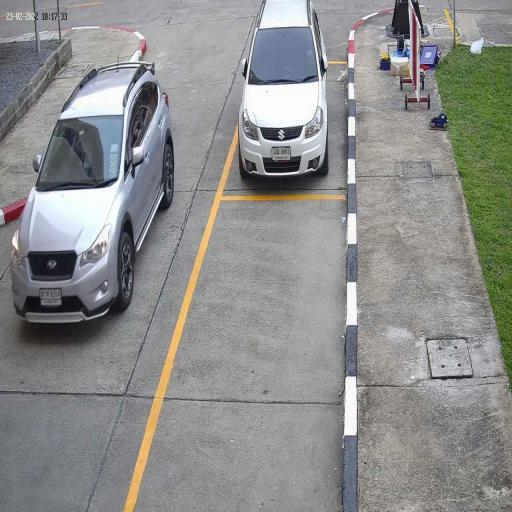car: (8, 60, 177, 329), (236, 0, 331, 186)
